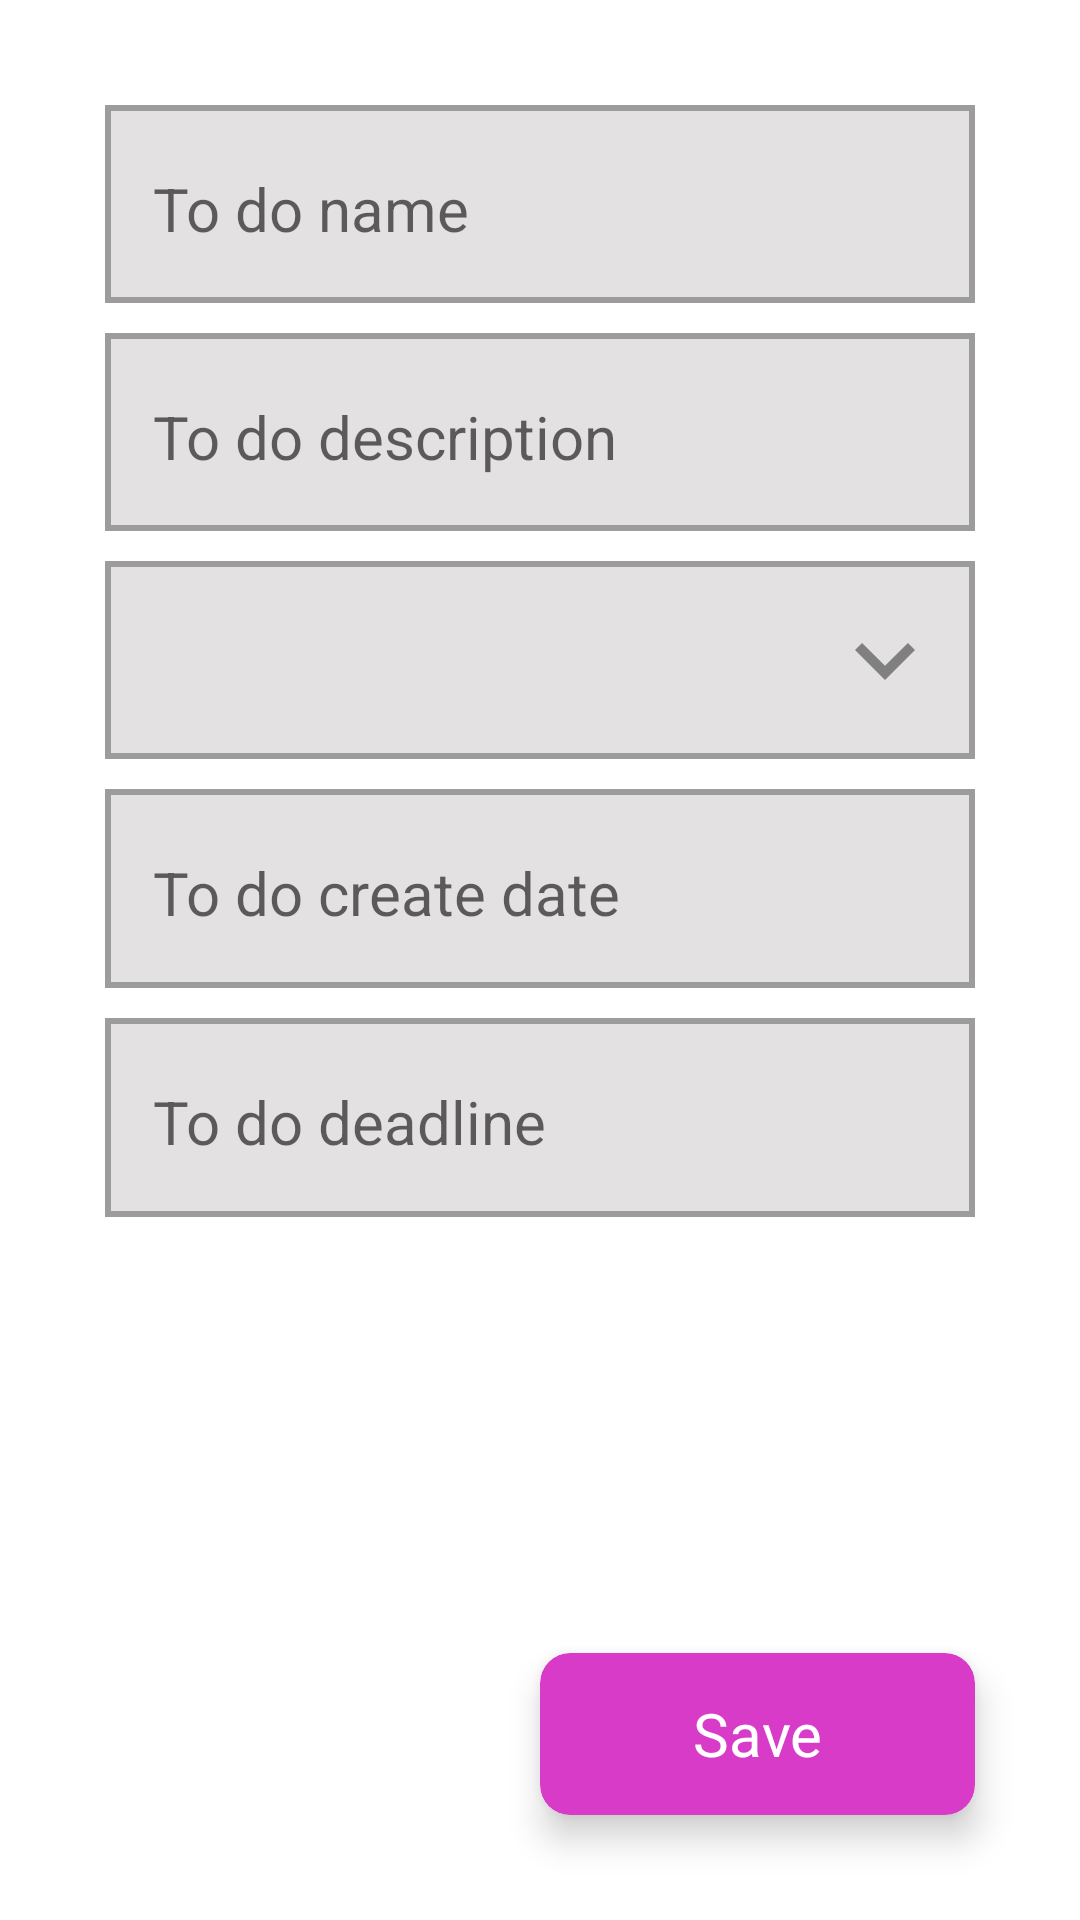

Screen size 1080w x 1920h. Icon name, then its box in pixels as (x1, y1, x2, y2):
bottom arrow: (855, 643, 915, 680)
